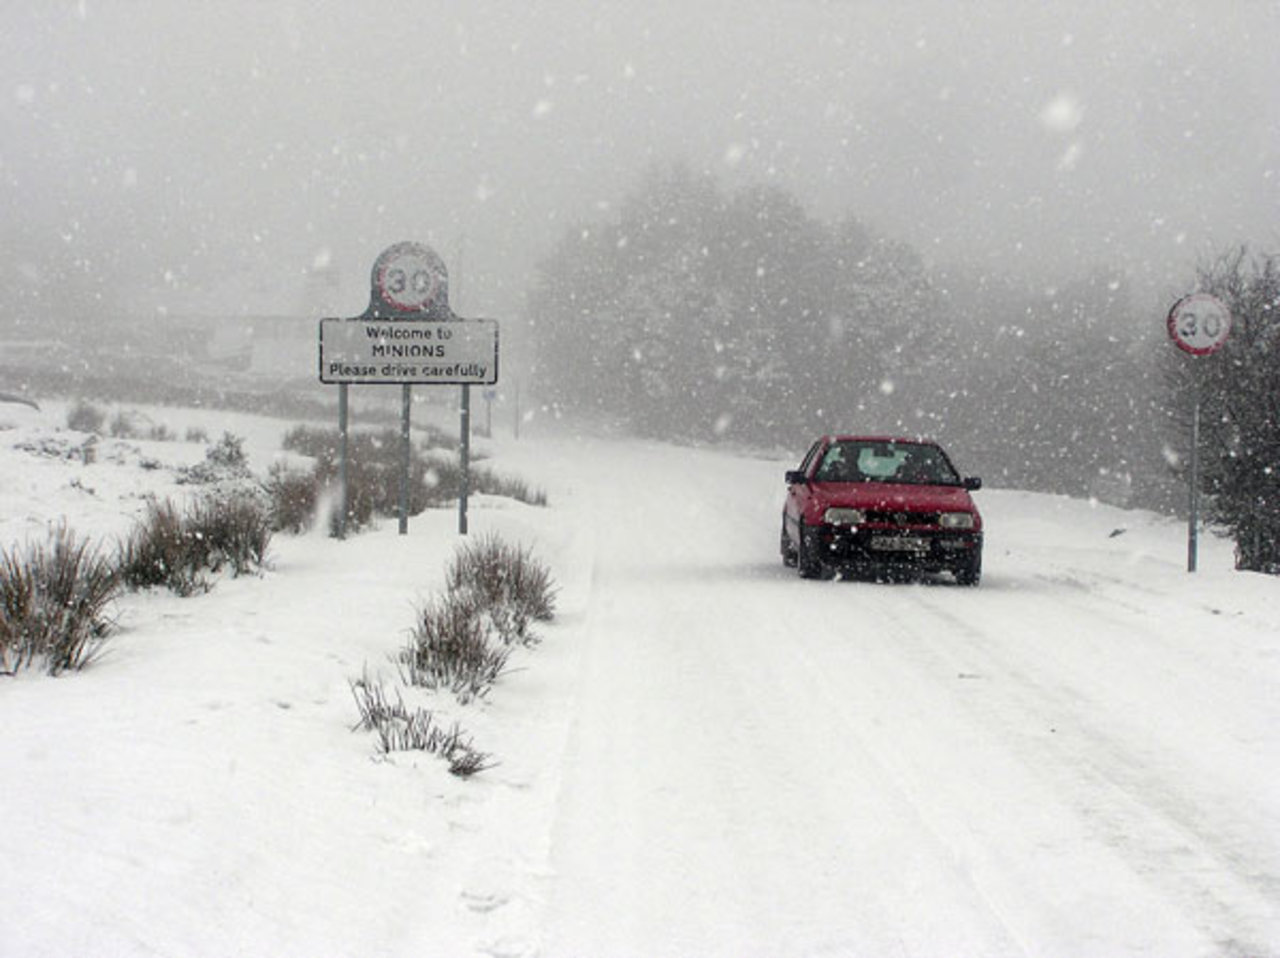car: (777, 432, 984, 587)
